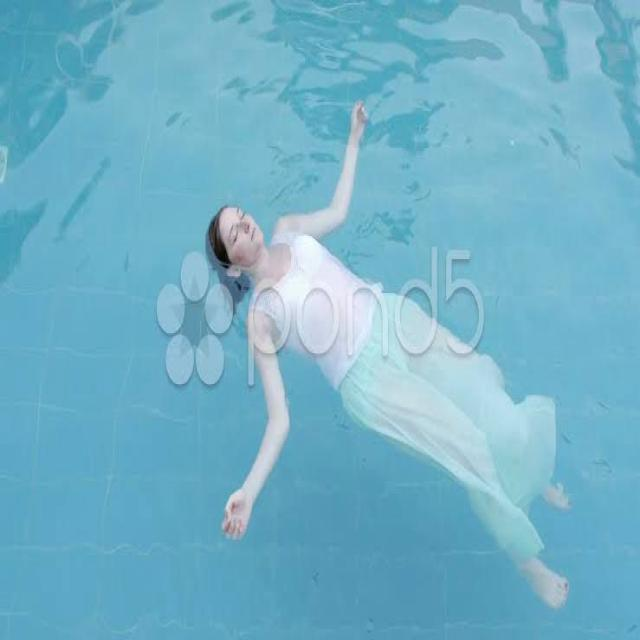Swimming: (202, 192, 571, 590)
